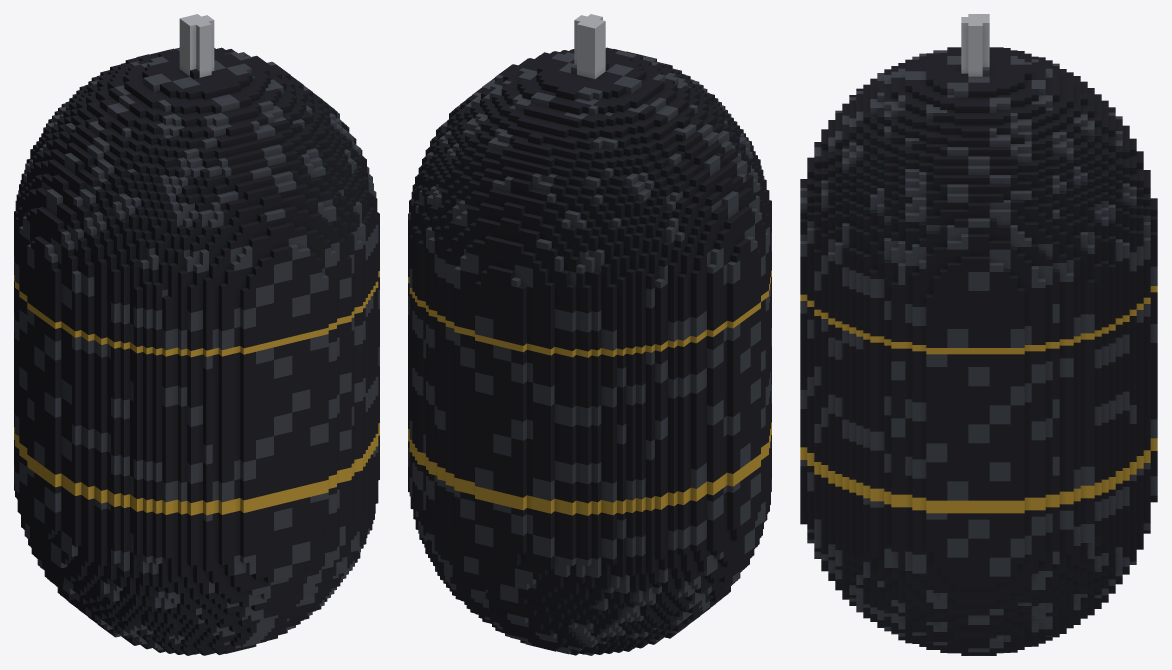
Rendered from tank_xenon_08.glb.
3 renders of one model, left to right at view 1: azimuth 30°, elevation 25°; view 2: azimuth 150°, elevation 25°; view 3: azimuth 270°, elevation 25°, orthographic.
Visible parts, largest first — view 1: tank_xenon_08; view 2: tank_xenon_08; view 3: tank_xenon_08.
Boxes of the visible parts, x1,y1,x2,y2 form: tank_xenon_08: [14, 14, 379, 655]; tank_xenon_08: [408, 14, 771, 655]; tank_xenon_08: [800, 14, 1157, 655].
Bounding box in the file's own units: 0.7969 × 1.52 × 0.7969.
